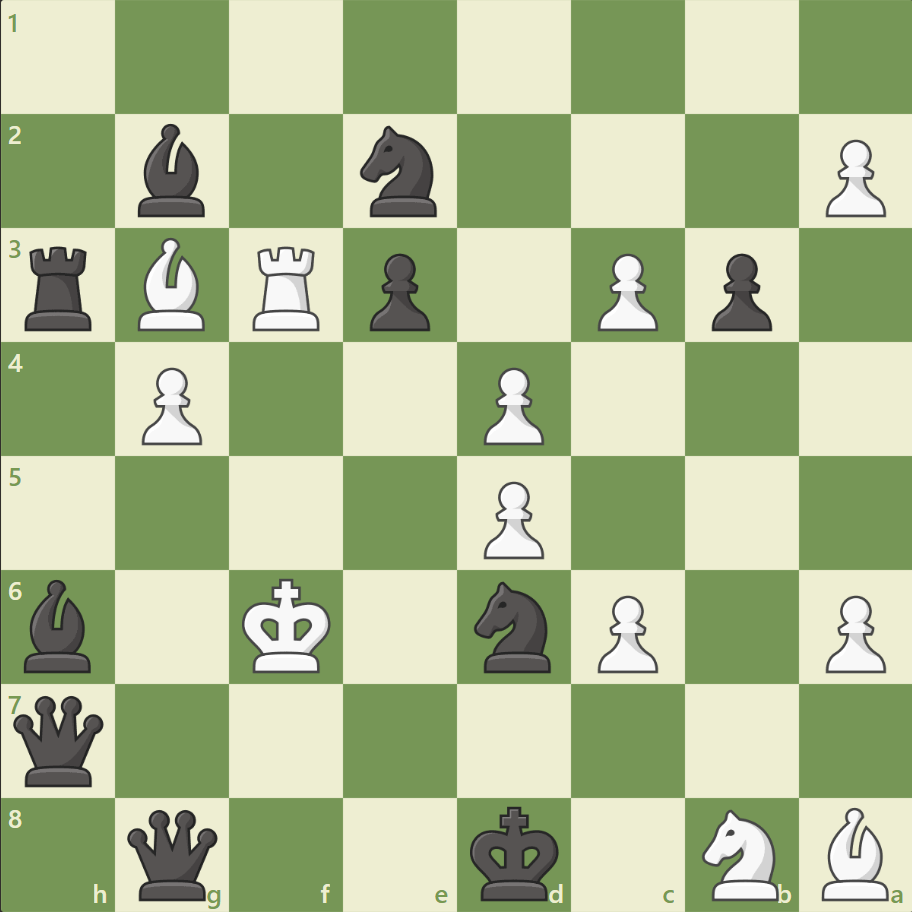B: (812, 801, 896, 904), (131, 233, 215, 336)
K: (238, 571, 338, 679)
N: (692, 802, 789, 904)
P: (474, 473, 549, 564), (474, 359, 549, 450), (133, 359, 208, 450), (815, 586, 889, 677), (588, 586, 662, 677), (588, 246, 662, 337), (815, 132, 889, 223)
R: (246, 239, 329, 336)
b: (17, 574, 101, 676), (131, 120, 215, 222)
k: (465, 798, 565, 906)
n: (351, 121, 449, 223), (465, 575, 562, 677)
p: (701, 246, 776, 337), (361, 246, 435, 337)
q: (124, 804, 223, 903), (10, 690, 109, 789)
r: (19, 239, 102, 336)
